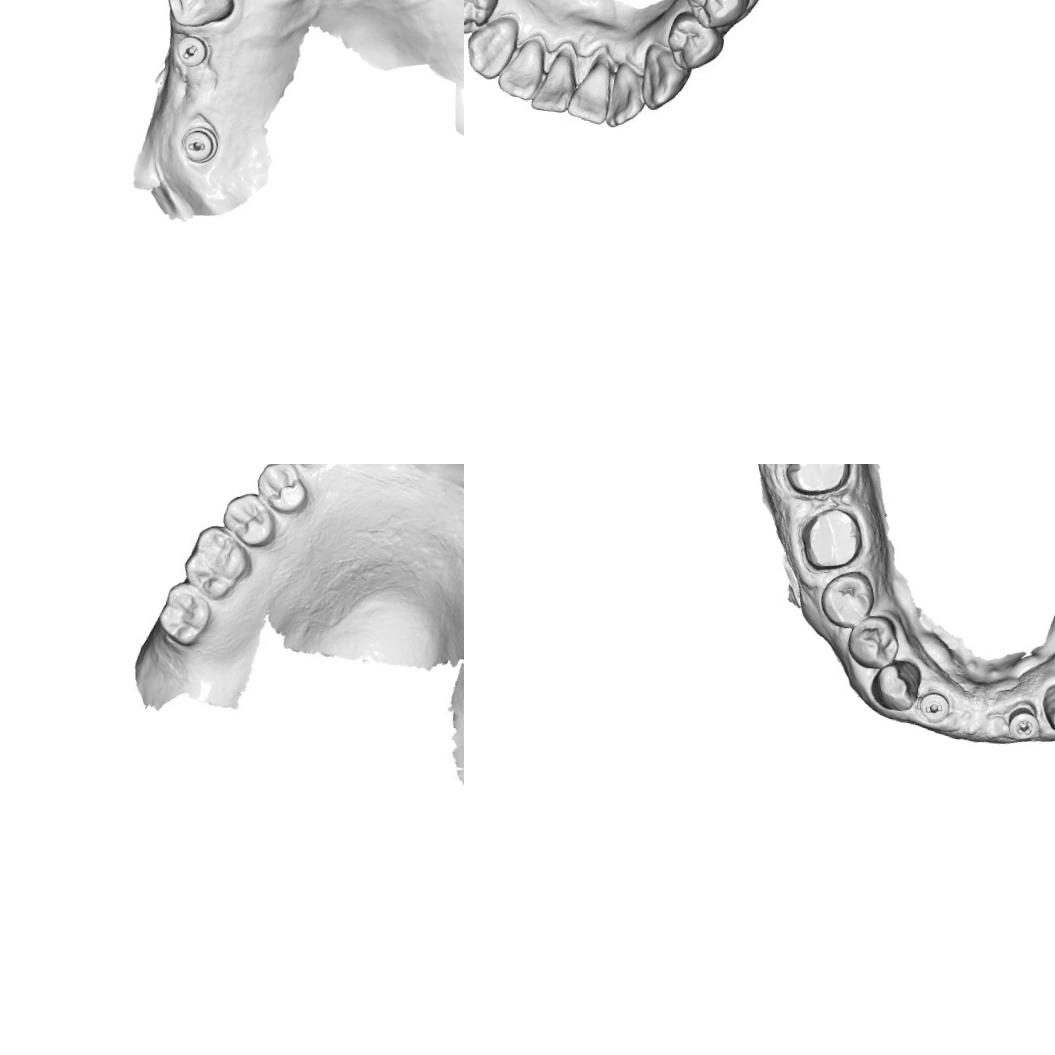canine: (464, 15, 517, 82), (867, 655, 925, 715), (638, 47, 689, 112), (162, 0, 237, 33), (1036, 677, 1055, 739)
crown: (796, 500, 868, 576), (780, 464, 859, 503)
implant_minus: (178, 122, 223, 168), (916, 686, 956, 730), (171, 34, 212, 72)
implant_plus: (1002, 699, 1046, 747)
incisor: (527, 44, 581, 116), (565, 55, 616, 125), (496, 35, 545, 100), (606, 66, 643, 132), (435, 464, 464, 501)
molar: (176, 523, 256, 604), (154, 582, 219, 648)
premolar: (815, 568, 878, 634), (842, 610, 906, 673), (662, 10, 725, 72), (220, 489, 280, 547), (254, 464, 310, 517), (684, 0, 747, 30), (464, 0, 501, 39)
